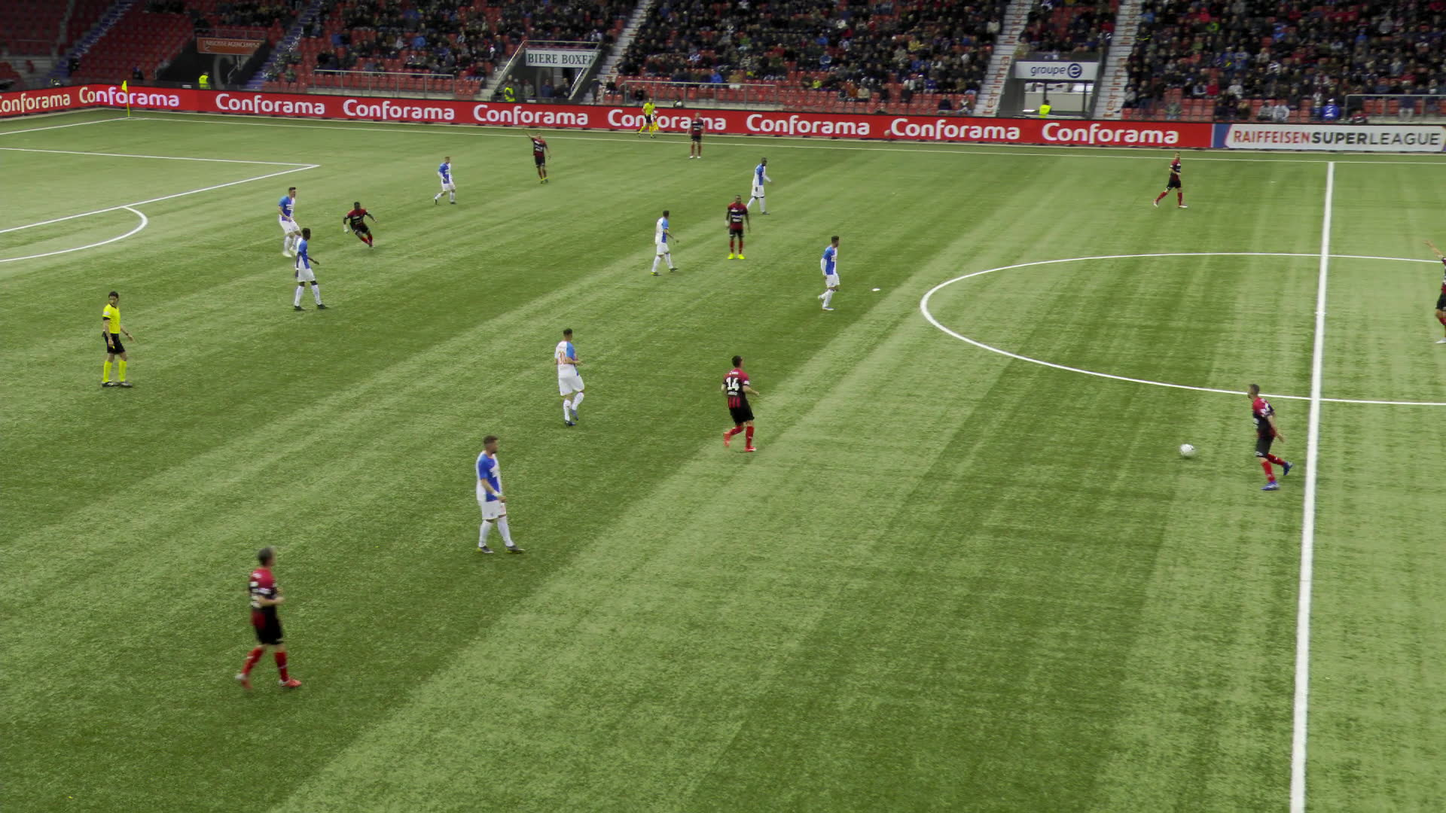ball: (1184, 446, 1198, 459)
player: (243, 549, 297, 691), (473, 435, 525, 554), (1247, 384, 1291, 489), (715, 354, 761, 451), (551, 328, 584, 426), (292, 227, 324, 310), (813, 234, 839, 310), (274, 187, 300, 257), (1427, 239, 1445, 340), (726, 193, 752, 259), (652, 209, 677, 275), (343, 199, 375, 249), (522, 124, 549, 183), (1156, 151, 1184, 207), (748, 157, 775, 215), (431, 156, 458, 206), (689, 111, 704, 158)
referee: (99, 291, 129, 388), (638, 96, 654, 138)
